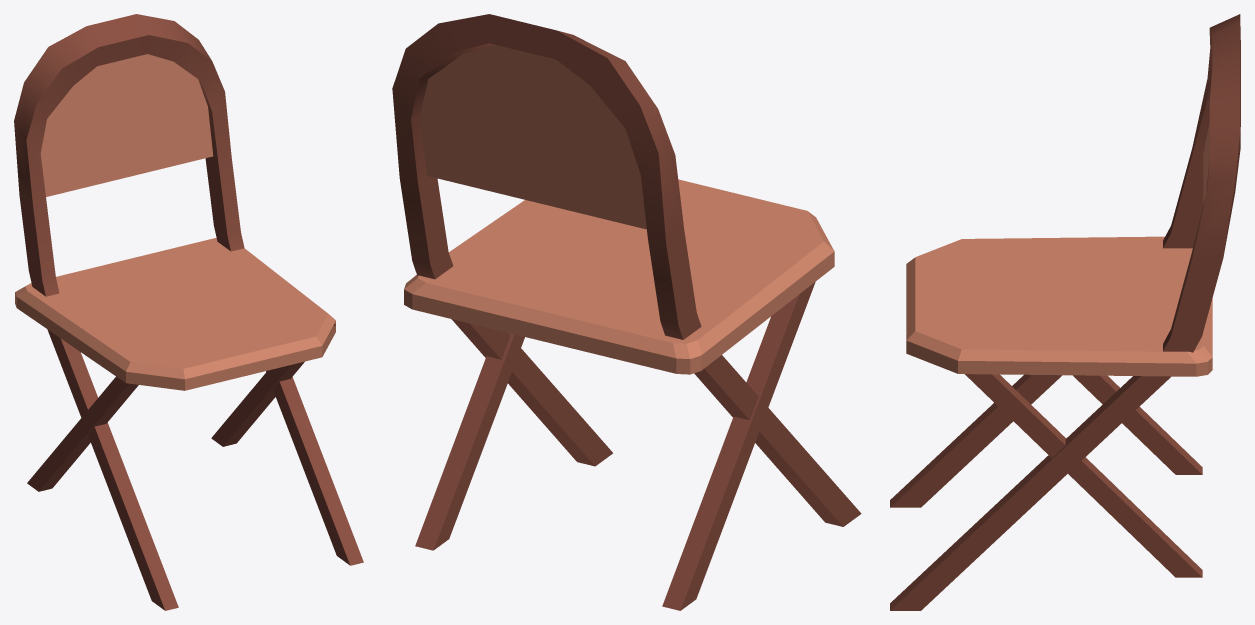
File: Chair_1.fbx
The picture shows the model from 3 angles, left to right: view 1: azimuth 30°, elevation 25°; view 2: azimuth 150°, elevation 25°; view 3: azimuth 270°, elevation 25°; orthographic projection. The views are drawn at different scales.
Parts seen in each view (by area): view 1: Chair_1; view 2: Chair_1; view 3: Chair_1.
Boxes of the visible parts, x1,y1,x2,y2 form: Chair_1: [14, 14, 363, 610]; Chair_1: [392, 14, 861, 610]; Chair_1: [890, 14, 1240, 610].
Size of the model in its own units: 80.36 by 158 by 97.05.
